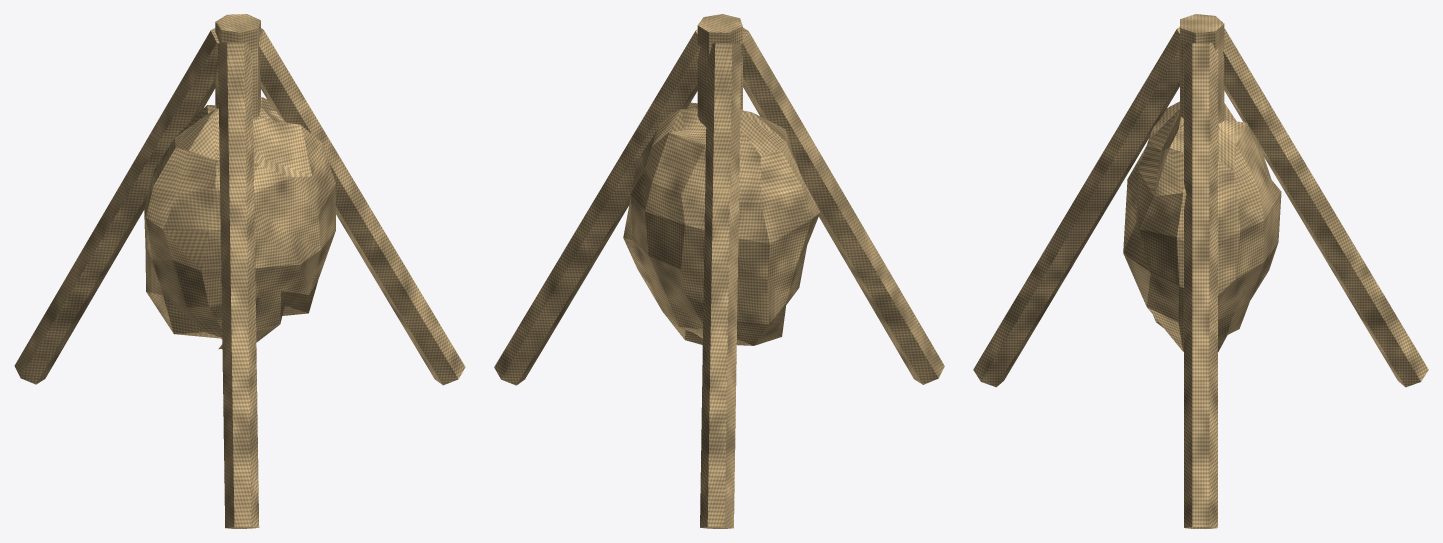
File: waterskin.glb
The picture shows the model from 3 angles, left to right: view 1: azimuth 30°, elevation 25°; view 2: azimuth 150°, elevation 25°; view 3: azimuth 270°, elevation 25°; orthographic projection.
Visible parts, largest first — view 1: waterskin; view 2: waterskin; view 3: waterskin.
Part boxes in pixels (left/top/right/bottom): waterskin: left=14, top=14, right=465, bottom=528; waterskin: left=494, top=14, right=944, bottom=528; waterskin: left=973, top=14, right=1428, bottom=528.
Size of the model in its own units: 0.9177 by 1.06 by 1.07.
Materials: 1 (1 with a texture image).
